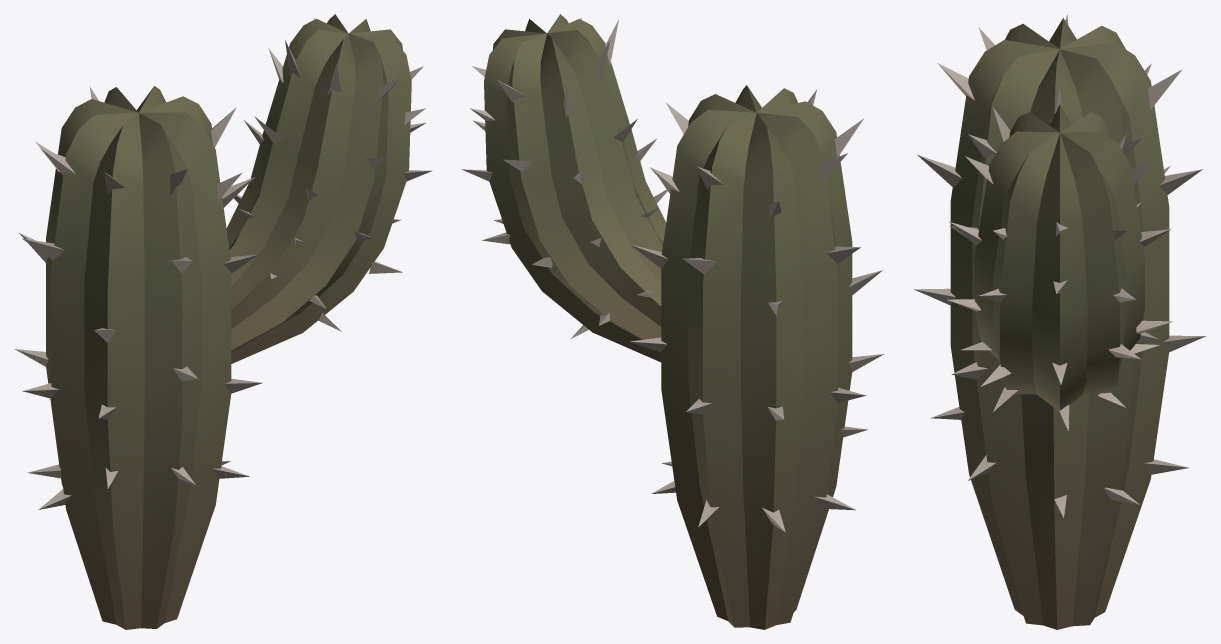
File: Cactus03.fbx
3 renders of one model, left to right at view 1: azimuth 30°, elevation 25°; view 2: azimuth 150°, elevation 25°; view 3: azimuth 270°, elevation 25°, orthographic. The views are drawn at different scales.
Parts seen in each view (by area): view 1: Cactus03; view 2: Cactus03; view 3: Cactus03.
Boxes of the visible parts, left/top/right/bottom form: Cactus03: left=15, top=14, right=432, bottom=629; Cactus03: left=462, top=14, right=883, bottom=629; Cactus03: left=914, top=15, right=1206, bottom=629.
Bounding box in the file's own units: 212 × 273 × 120.
